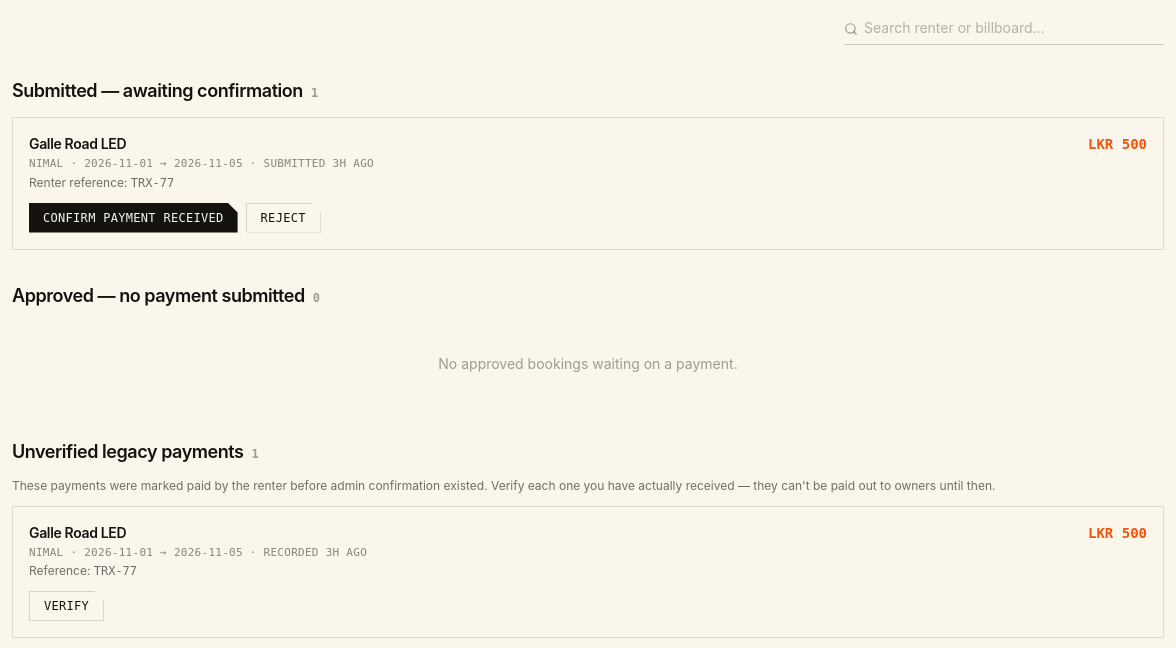
Test case: PaymentsPanel › prefills the quoted amount, requires a reference, warns on mismatch and shows server errors
Expected: the text "Galle Road LED" below "Submitted — awaiting confirmation" is shown, [29,135,126,152]
Click the button "Confirm payment received" at (133, 218), box [29,202,238,232]
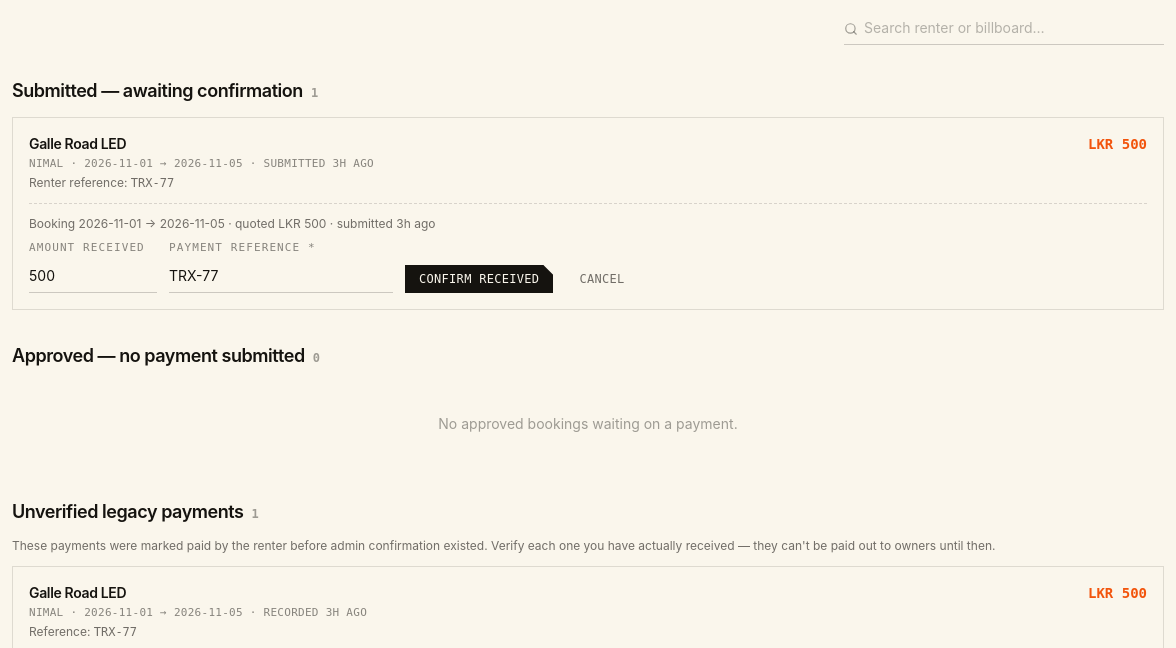
Expected: the number field labelled "Amount received" holds "500", [29,260,157,293]
Expected: the field labelled "Payment reference *" holds "TRX-77"
Clear the field labelled "Payment reference *" at (281, 276), box [169,260,393,293]
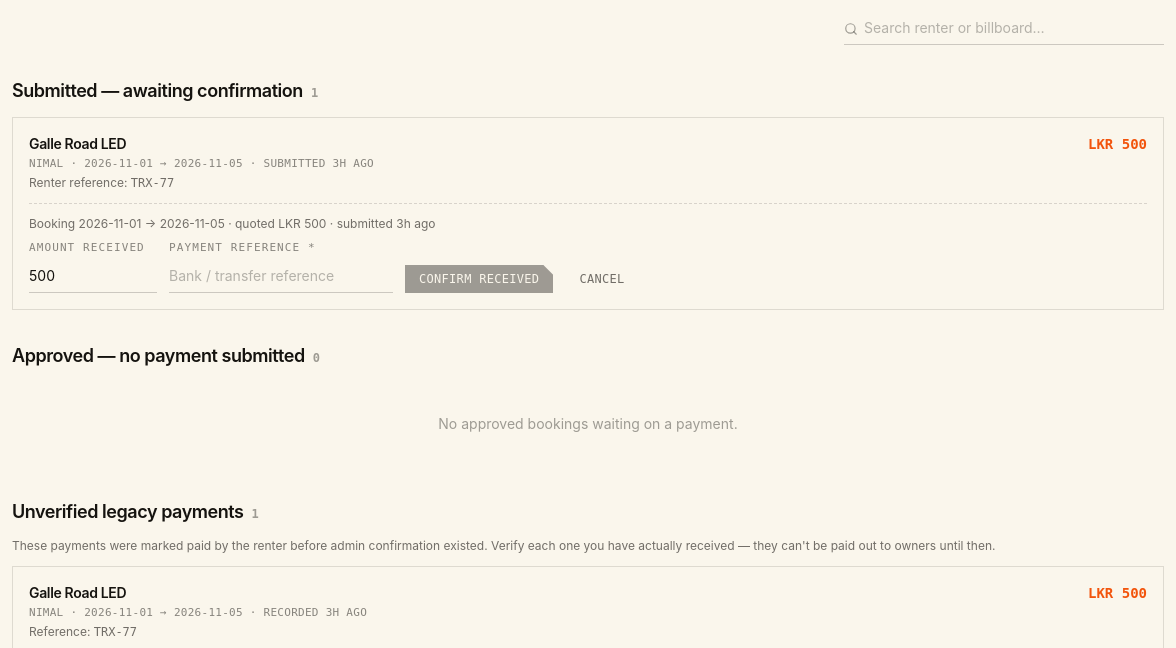
Expected: the button "Confirm received" is disabled, [405,265,553,293]
Type "BANK-1" into the field labelled "Payment reference *" at (281, 276), box [169,260,393,293]
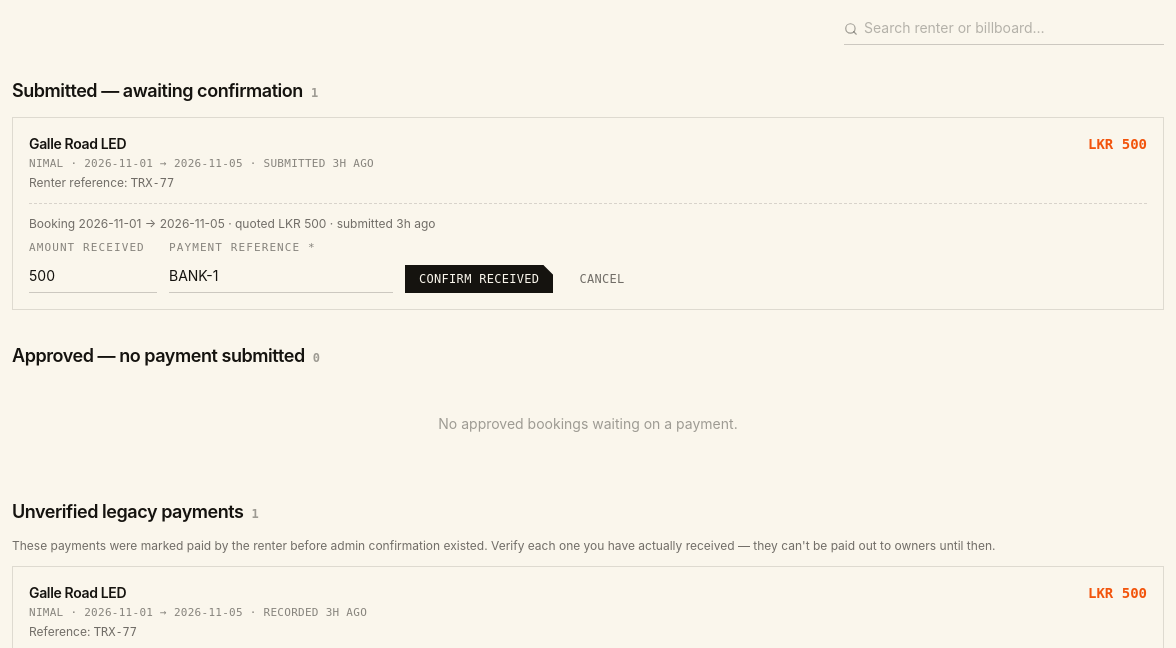
Expected: the button "Confirm received" is enabled, [405,265,553,293]
Replace the text in the number field labelled "Amount received" with "450" at (93, 276), box [29,260,157,293]
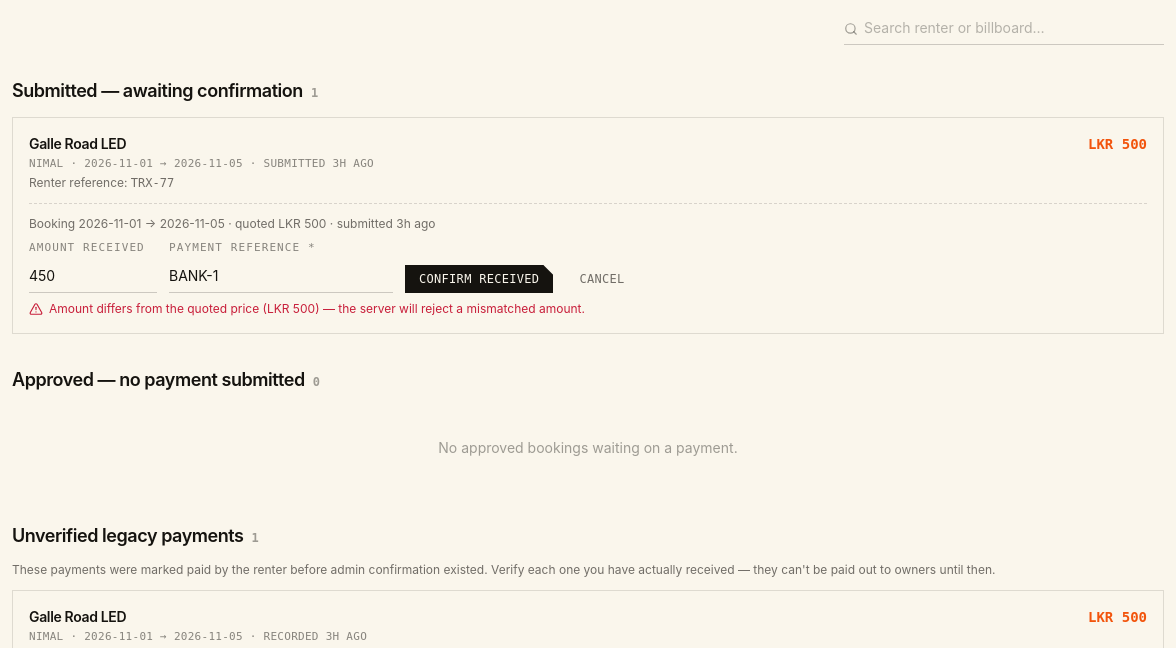
Expected: the text "Amount differs from the quoted price" is shown, [49,301,267,316]
Click the button "Confirm received" at (479, 279), box [405,265,553,293]
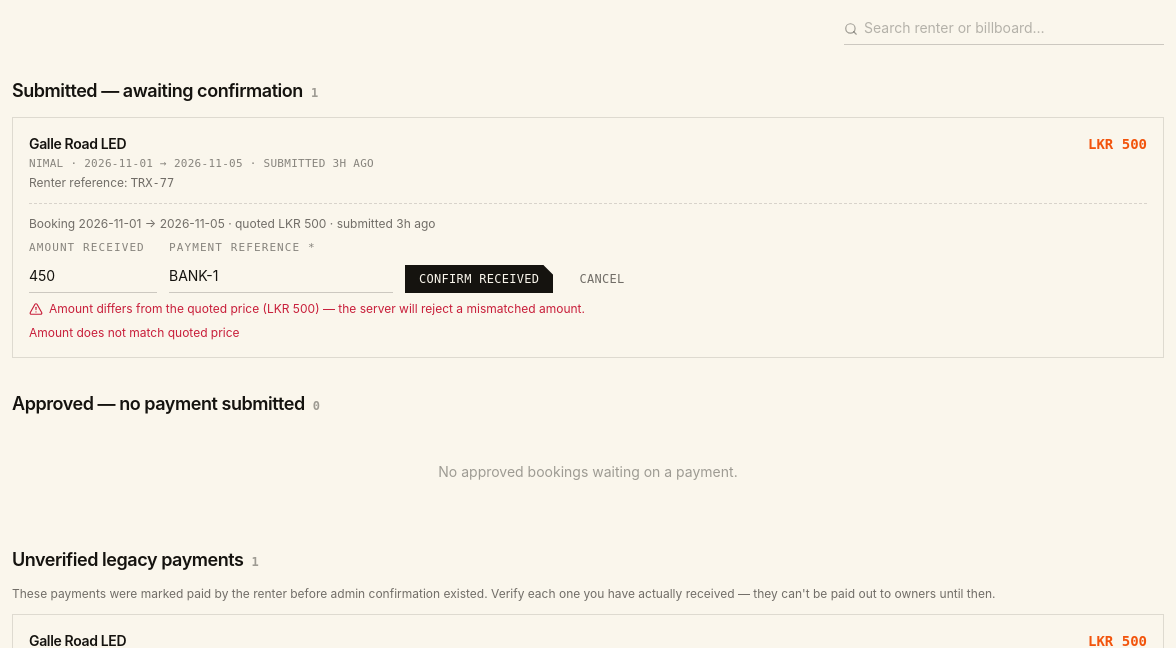
Expected: the text "Amount does not match quoted price" is shown, [29,325,240,340]
